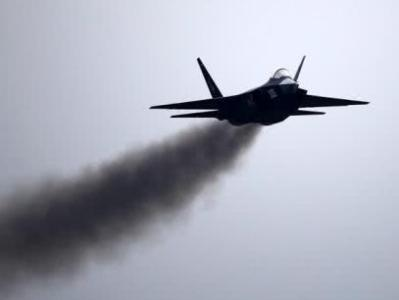smoke: (1, 120, 253, 300)
